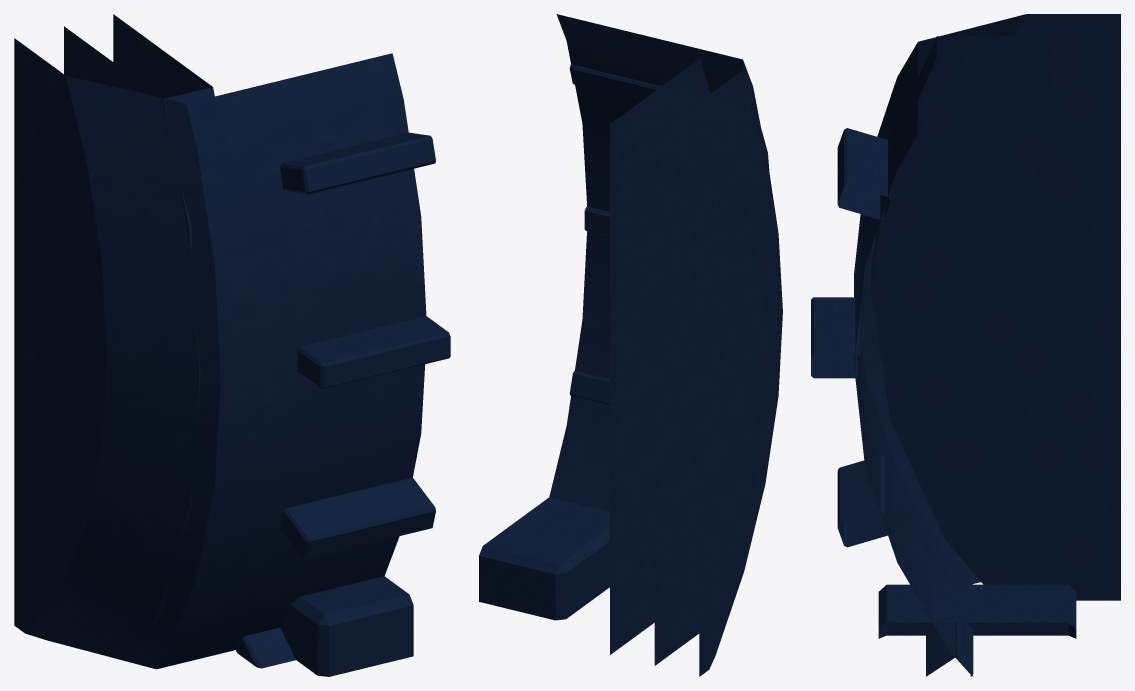
Rendered from cell_44.obj.
3 renders of one model, left to right at view 1: azimuth 30°, elevation 25°; view 2: azimuth 150°, elevation 25°; view 3: azimuth 270°, elevation 25°, orthographic. The views are drawn at different scales.
Parts seen in each view (by area): view 1: cell_44; view 2: cell_44; view 3: cell_44.
Boxes of the visible parts, x1,y1,x2,y2 form: cell_44: (14,14,450,676); cell_44: (479,14,782,676); cell_44: (811,14,1120,676).
Bounding box in the file's own units: 0.4775 × 1 × 0.5181.
